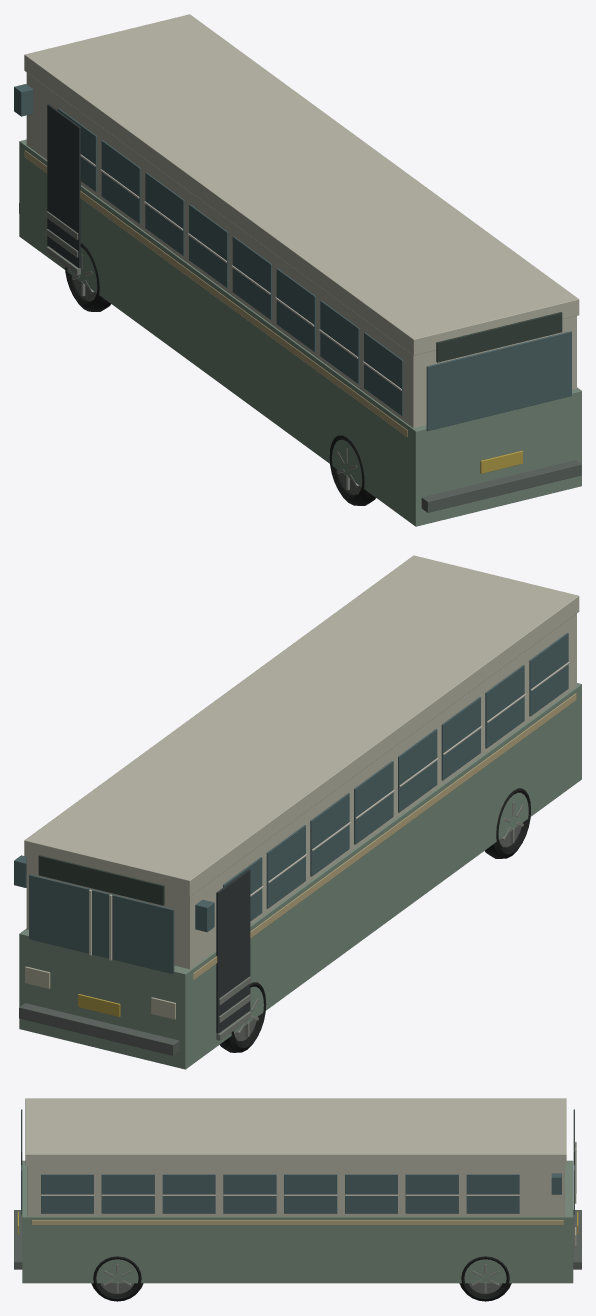
The model's file is local_bus.glb.
3 views of the same model, one above another, from view 1: azimuth 30°, elevation 25°; view 2: azimuth 150°, elevation 25°; view 3: azimuth 270°, elevation 25° (orthographic). The views are drawn at different scales.
Visible parts, largest first — view 1: local_bus; view 2: local_bus; view 3: local_bus.
Boxes of the visible parts, x1,y1,x2,y2 form: local_bus: (14,14,581,526); local_bus: (14,555,581,1069); local_bus: (14,1098,581,1301).
Bounding box in the file's own units: 2.86 × 3.03 × 10.46.
